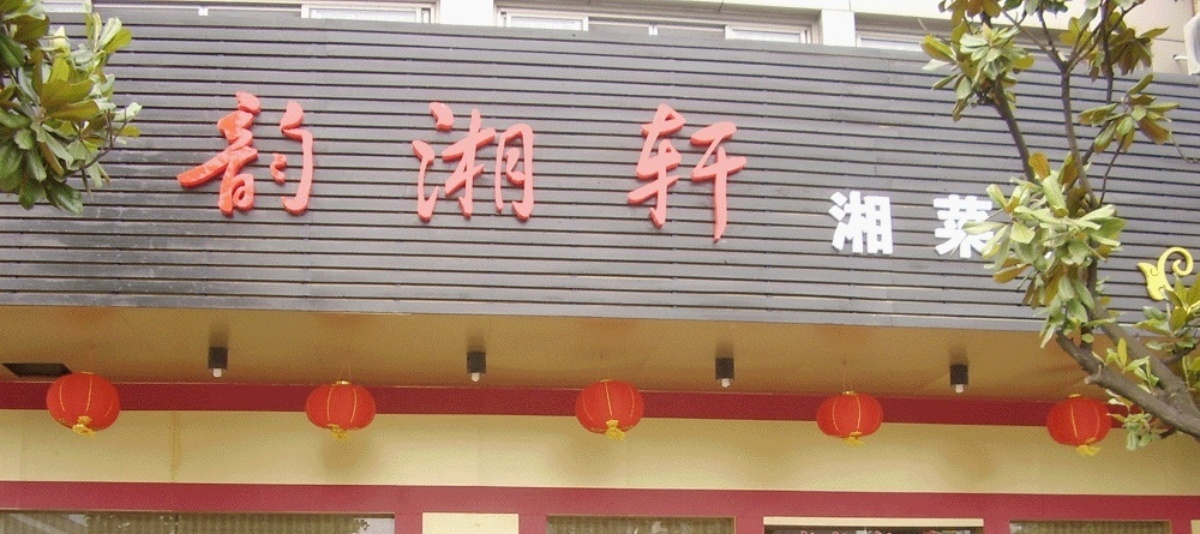text: (177, 92, 192, 249), (193, 92, 208, 249), (209, 92, 224, 249), (225, 92, 240, 249), (241, 92, 256, 249), (257, 92, 272, 249), (273, 92, 288, 249), (289, 92, 304, 249), (305, 92, 320, 249), (321, 92, 336, 249), (337, 92, 352, 249), (353, 92, 368, 249), (369, 92, 384, 249), (385, 92, 400, 249), (401, 92, 416, 249), (417, 92, 432, 249), (433, 92, 448, 249), (449, 92, 464, 249), (465, 92, 480, 249), (481, 92, 496, 249), (497, 92, 512, 249), (513, 92, 528, 249), (529, 92, 544, 249), (545, 92, 560, 249), (561, 92, 576, 249), (577, 92, 592, 249), (593, 92, 608, 249), (609, 92, 624, 249), (625, 92, 640, 249), (641, 92, 656, 249), (657, 92, 672, 249), (673, 92, 688, 249), (689, 92, 704, 249), (705, 92, 720, 249), (721, 92, 736, 249), (737, 92, 749, 249), (833, 184, 848, 260), (849, 184, 864, 260), (865, 184, 880, 260), (881, 184, 896, 260), (897, 184, 912, 260), (913, 184, 928, 260), (929, 184, 944, 260), (945, 184, 960, 260), (961, 184, 976, 260), (977, 184, 992, 260), (827, 184, 832, 260), (993, 184, 994, 260)
